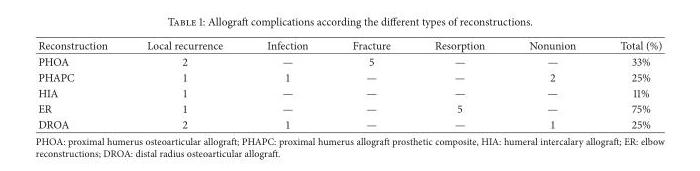table: (37, 37, 661, 131)
table column: (126, 37, 244, 131), (411, 37, 506, 131), (506, 37, 597, 131), (37, 37, 126, 131), (244, 37, 329, 131), (329, 37, 411, 131), (597, 37, 661, 131)
table column header: (37, 37, 661, 53)
table row: (37, 37, 661, 53), (37, 68, 661, 84), (37, 84, 661, 100), (37, 100, 661, 116), (37, 53, 661, 68), (37, 116, 661, 131)
